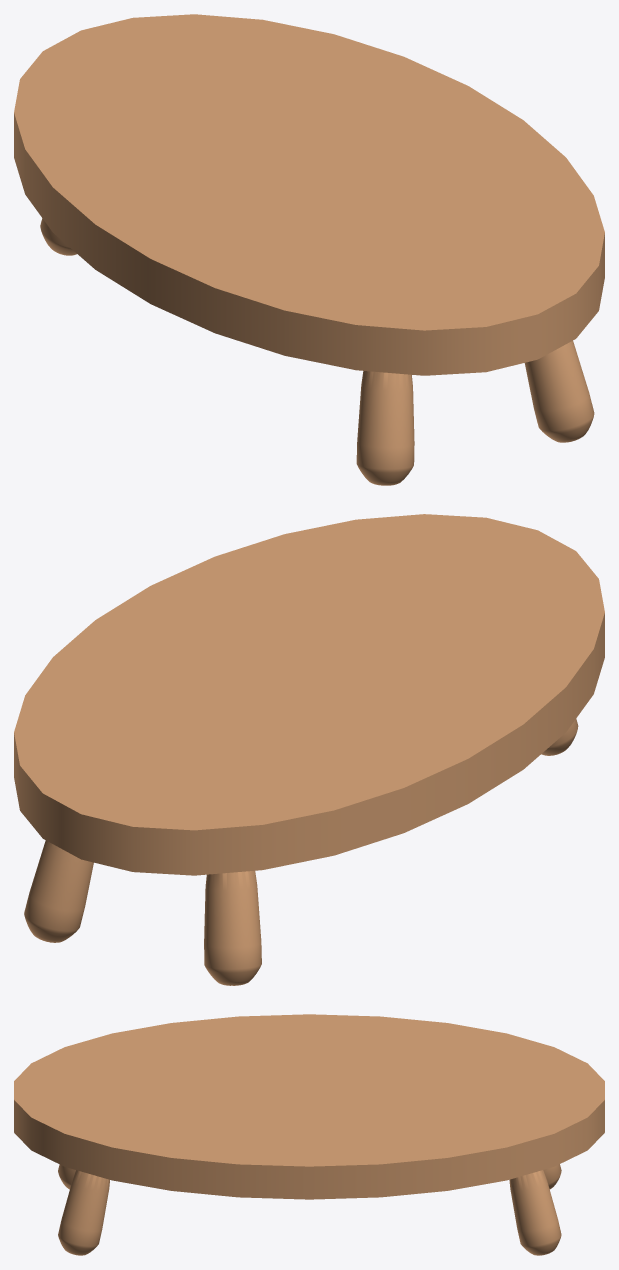
File: small table.fbx
3 views of the same model, one above another, from view 1: azimuth 30°, elevation 25°; view 2: azimuth 150°, elevation 25°; view 3: azimuth 270°, elevation 25° (orthographic). The views are drawn at different scales.
Parts seen in each view (by area): view 1: Cylinder004; view 2: Cylinder004; view 3: Cylinder004.
Boxes of the visible parts, x1=… form: Cylinder004: x1=14, y1=14, x2=604, y2=485; Cylinder004: x1=14, y1=514, x2=604, y2=985; Cylinder004: x1=14, y1=1014, x2=604, y2=1255.
Bounding box in the file's own units: 198 × 77.78 × 325.
